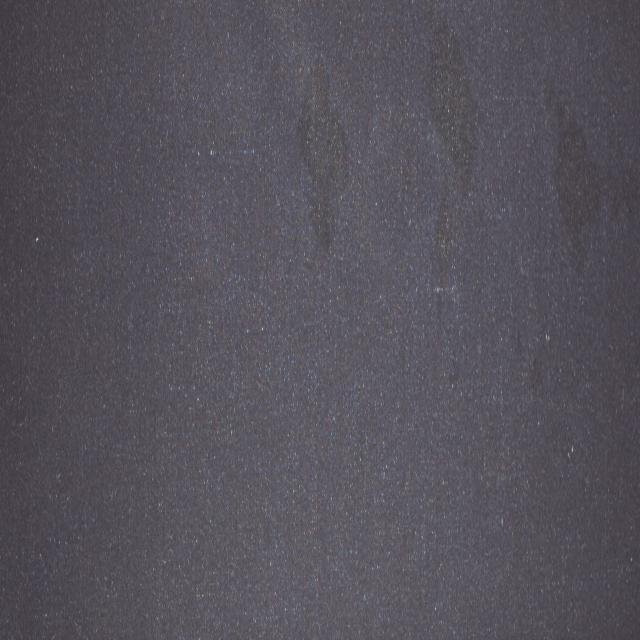Stain: (429, 0, 474, 292), (545, 86, 605, 275), (299, 63, 346, 258)
